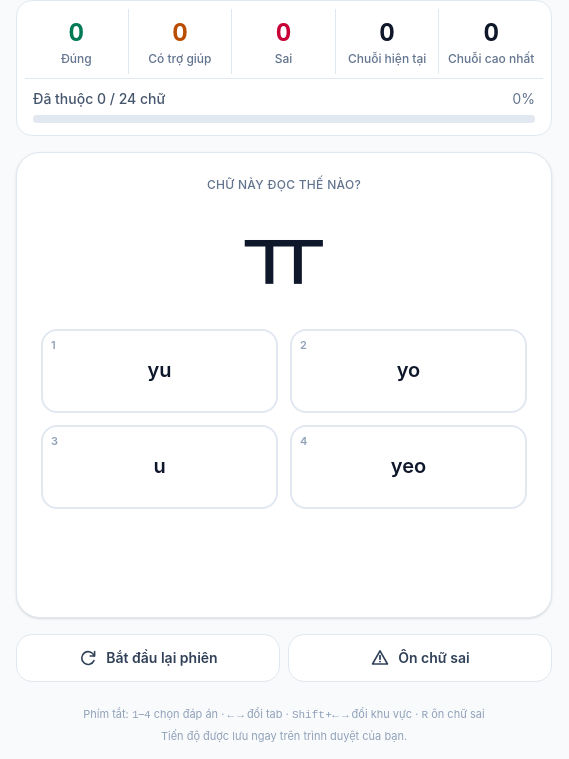
it: App › shows a friendly empty state when there is nothing to review
The image size is (569, 759).
(page scrolled)
Click the button with aria-label "Bật chế độ ôn chữ sai": (420, 658) [288,634,552,682]
(page scrolled)
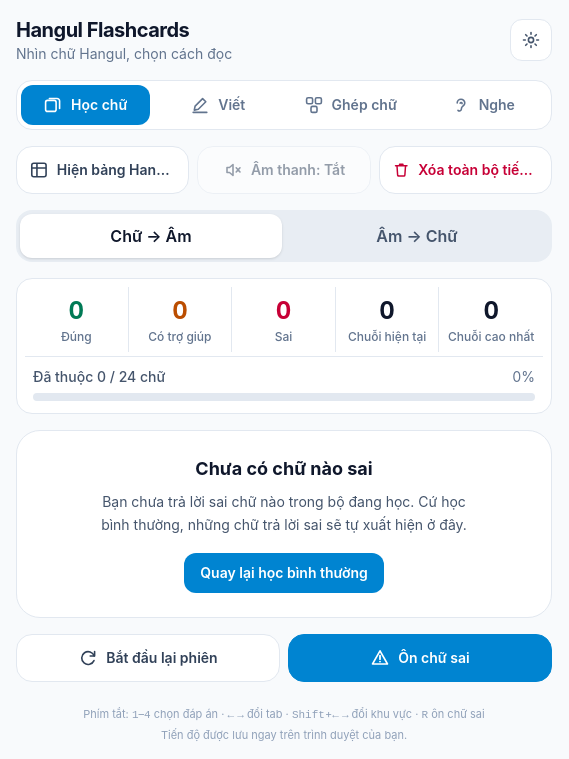
Now the heading "Chưa có chữ nào sai" is shown, box [195,458,373,479]
Click the button "Quay lại học bình thường": (284, 572) [184,552,384,592]
(page scrolled)
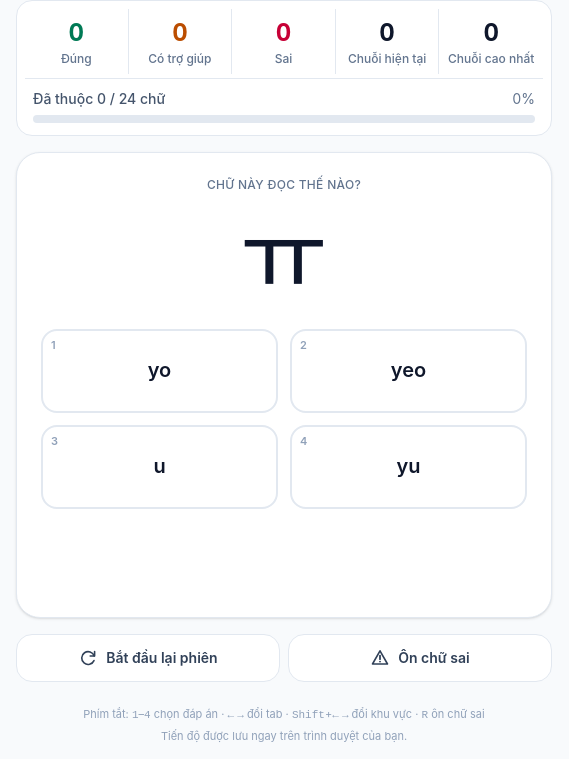
Now the number of buttons named "Đáp án" is 4, box [41,329,278,413]; [290,329,527,413]; [41,425,278,509]; [290,425,527,509]
